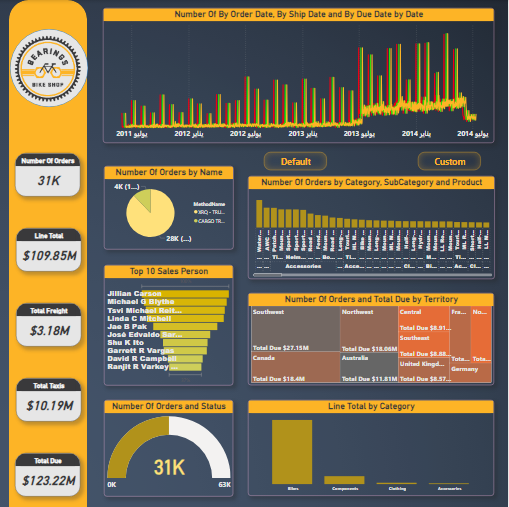

This screenshot's page, from the dashboard's own definition file:
{"tool":"powerbi","page":{"name":"Bike Store ","canvas":[1400,1400],"ordinal":0},"visuals":[{"type":"gauge","title":"Number Of Orders and Status","fields":{"Y":["_Measure.Number Of Orders"]},"box":[286,1102,356,266],"z":0},{"type":"pieChart","title":"Number Of Orders by Name","fields":{"Y":["_Measure.Number Of Orders"],"Category":["ShipMethod.MethodName"]},"box":[286.7,456.7,356.7,230],"z":1000},{"type":"lineStackedColumnComboChart","fields":{"Y":["_Measure.Number Of Orders"],"Category":["Products.Product Hierarchy.Category","Products.Product Hierarchy.SubCategory","Products.Product Hierarchy.Product"]},"box":[684,484,680,284],"z":2000},{"type":"treemap","fields":{"Values":["_Measure.Number Of Orders","_Measure.Total Due"],"Group":["Territories.Territory"]},"box":[684,808,678,254],"z":3000},{"type":"lineChart","title":"Number Of By Order Date, By Ship Date and By Due Date by Date","fields":{"Category":["Dates.Date"],"Y":["_Measure.Number Of Orders","_Measure.By Ship Date","_Measure.By Due Date"]},"box":[283.9,22,1077.6,372],"z":4000},{"type":"funnel","title":"Top 10 Sales Person","fields":{"Category":["SalesPerson.Sales Name"],"Y":["_Measure.Number Of Orders"]},"box":[286,730,356,332],"z":5000},{"type":"lineStackedColumnComboChart","fields":{"Y":["_Measure.Line Total"],"Category":["Products.Category","Products.Product"]},"box":[684,1102,678,264],"z":6000},{"type":"shape","box":[25,0,215,1400],"z":7000},{"type":"shape","box":[24.8,79.9,217.7,215],"z":8000},{"type":"image","box":[0,46.9,264.6,281.1],"z":9000},{"type":"card","title":"Number Of Orders","fields":{"Values":["_Measure.Number Of Orders"]},"box":[42.5,422.5,180,120],"z":10000},{"type":"card","title":"Line Total","fields":{"Values":["_Measure.Line Total"]},"box":[45,628.8,180,120],"z":11000},{"type":"card","title":"Total Freight","fields":{"Values":["_Measure.Total Freight"]},"box":[45,835,180,120],"z":12000},{"type":"card","title":"Total Taxis","fields":{"Values":["_Measure.Total Taxies"]},"box":[45,1041.2,180,120],"z":13000},{"type":"card","title":"Total Due","fields":{"Values":["_Measure.Total Due"]},"box":[42.5,1247.5,180,120],"z":14000},{"type":"actionButton","box":[726.7,420,173.3,50],"z":15000},{"type":"actionButton","box":[1153.3,420,173.3,50],"z":16000}]}

Visuals, with their boxes in screenshot pixels (x1, y1, x2, y2), scaled from the page's 1400x1400 canvas onto the 509x507 screenshot:
"Number Of Orders and Status" gauge: rect(104, 399, 233, 495)
"Number Of Orders by Name" pieChart: rect(104, 165, 234, 249)
lineStackedColumnComboChart - _Measure.Number Of Orders x Products.Product Hierarchy.Category: rect(249, 175, 496, 278)
treemap - _Measure.Number Of Orders x _Measure.Total Due: rect(249, 293, 495, 385)
"Number Of By Order Date, By Ship Date and By Due Date by Date" lineChart: rect(103, 8, 495, 143)
"Top 10 Sales Person" funnel: rect(104, 264, 233, 385)
lineStackedColumnComboChart - _Measure.Line Total x Products.Category: rect(249, 399, 495, 495)
shape: rect(9, 0, 87, 506)
shape: rect(9, 29, 88, 107)
image: rect(0, 17, 96, 119)
"Number Of Orders" card: rect(15, 153, 81, 196)
"Line Total" card: rect(16, 228, 82, 271)
"Total Freight" card: rect(16, 302, 82, 346)
"Total Taxis" card: rect(16, 377, 82, 421)
"Total Due" card: rect(15, 452, 81, 495)
actionButton: rect(264, 152, 327, 170)
actionButton: rect(419, 152, 482, 170)
